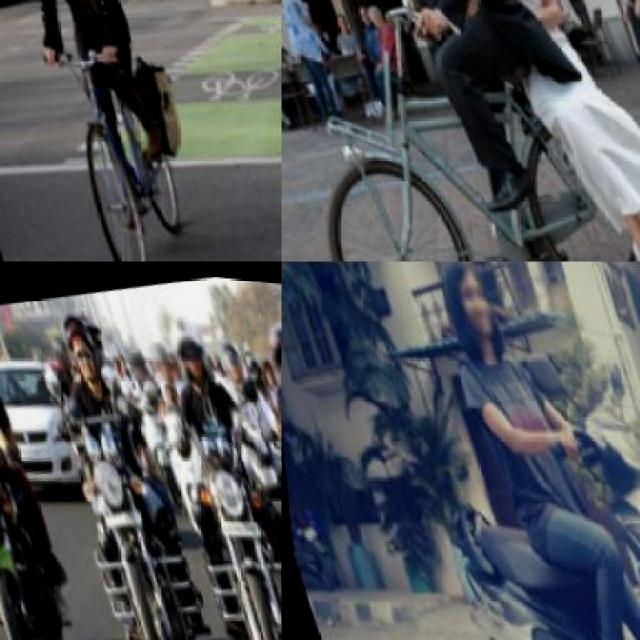With Helmet: (51, 299, 112, 384), (156, 300, 216, 386), (75, 298, 111, 364), (255, 304, 280, 388), (216, 334, 247, 383), (148, 334, 177, 380), (46, 324, 74, 370), (240, 343, 266, 385), (125, 348, 150, 380)
Without Helmet: (429, 262, 505, 352)
